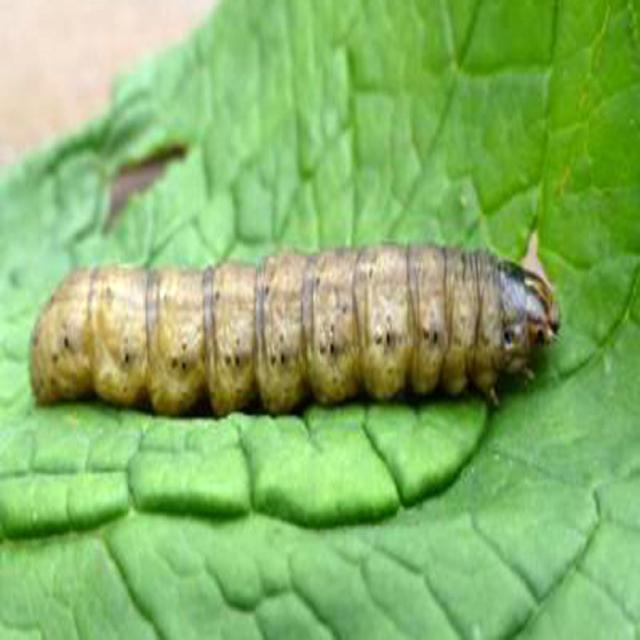Cutworm: (14, 226, 568, 436)
